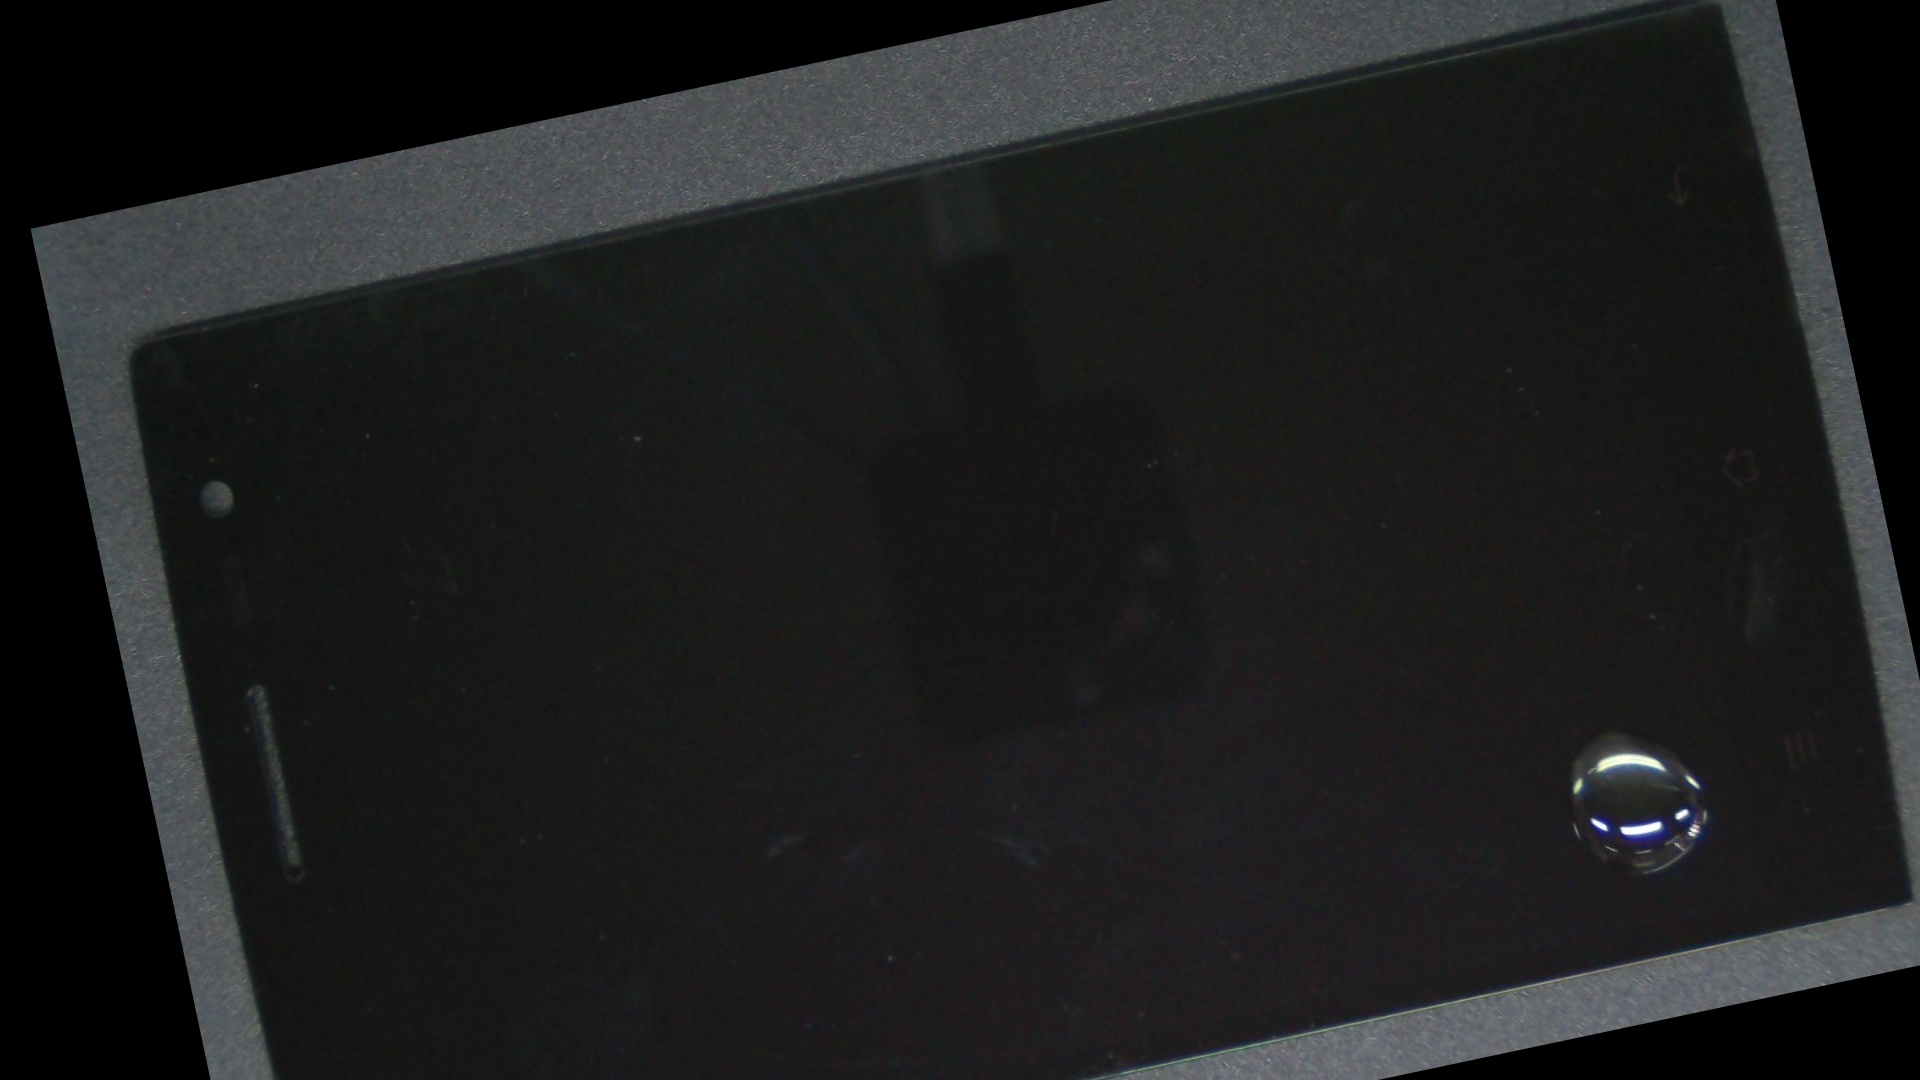oil: (819, 266, 1920, 1080)
